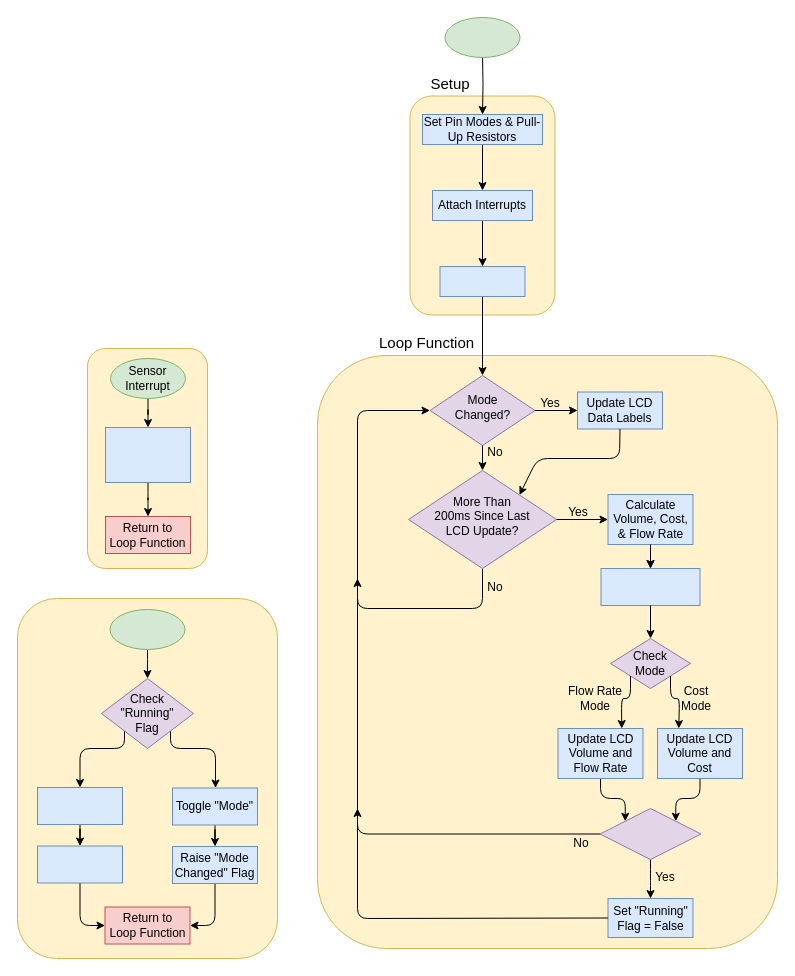
The diagram is 795 pixels wide and 976 high, and some of its shapes have lost their labels. Here are the shapes that lost their labels. From the top down, the box of each, then its label:
(444, 16, 520, 58): Power On
(439, 266, 525, 296): Create LCD Object
(104, 426, 190, 482): Increment "Counter" by +1
(600, 568, 700, 606): Set "Last Count" = "Count"
(109, 608, 185, 650): Button Interrupt
(36, 786, 122, 824): Clear "Count" to zero
(599, 808, 701, 860): Flow Rate = Zero?
(36, 845, 122, 883): Clear "Last Count" to zero
